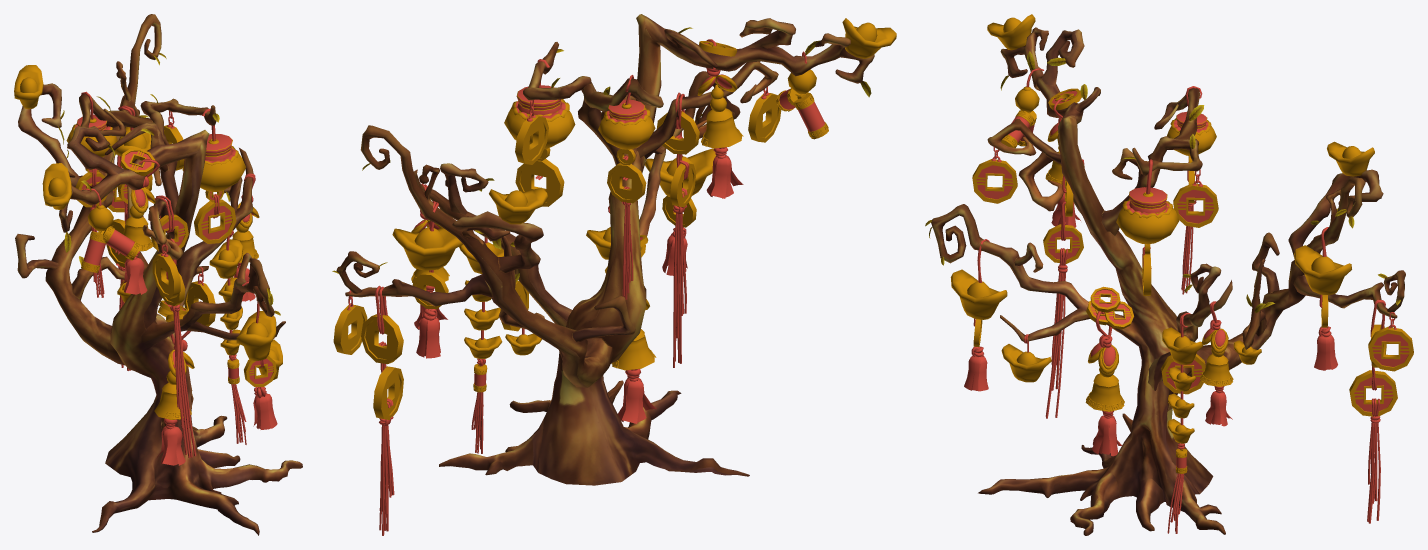
Rendered from jy_yaoqianshu01.FBX.
The picture shows the model from 3 angles, left to right: view 1: azimuth 30°, elevation 25°; view 2: azimuth 150°, elevation 25°; view 3: azimuth 270°, elevation 25°; orthographic projection. The views are drawn at different scales.
Parts seen in each view (by area): view 1: jy_yaoqianshu01; view 2: jy_yaoqianshu01; view 3: jy_yaoqianshu01.
Part boxes in pixels (x1,y1,x2,y2): jy_yaoqianshu01: [14, 14, 302, 535]; jy_yaoqianshu01: [332, 14, 896, 535]; jy_yaoqianshu01: [925, 14, 1413, 535].
Size of the model in its own units: 359 by 440 by 476.
